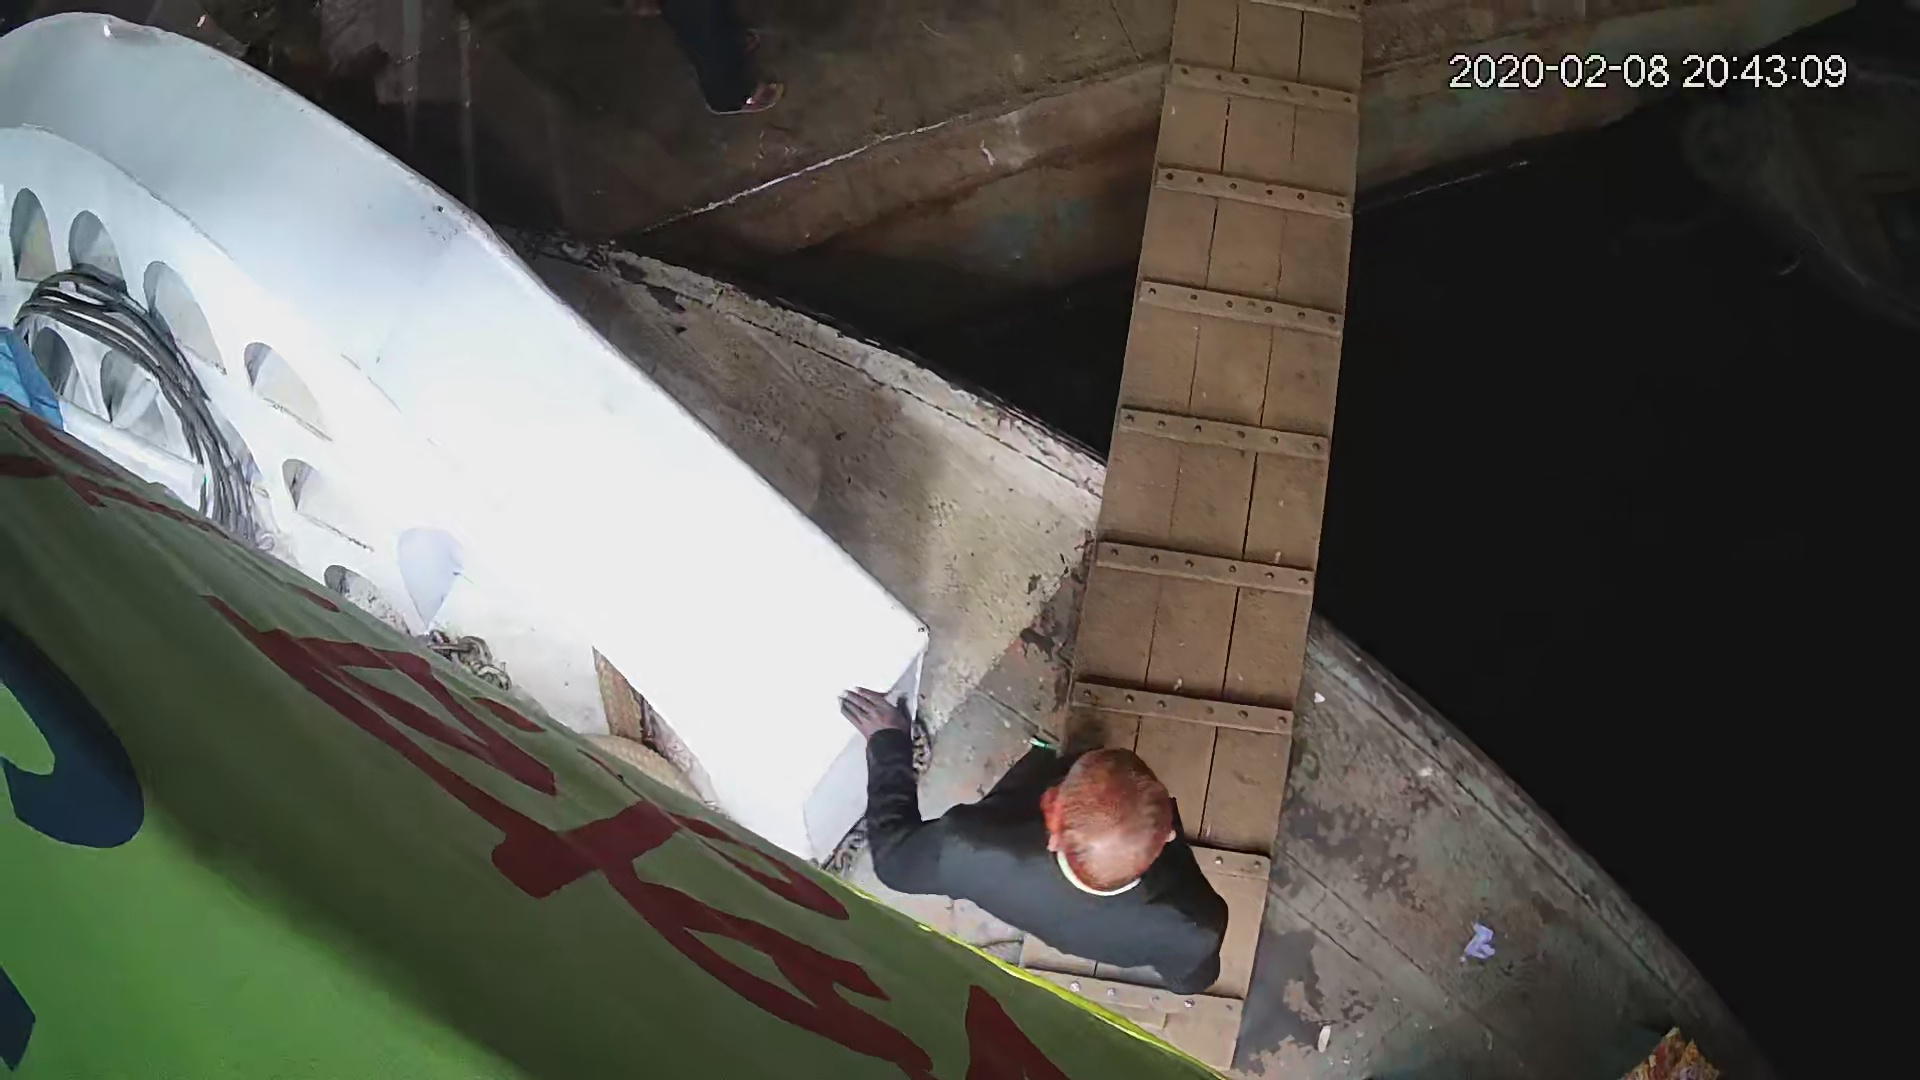person: (842, 678, 1233, 993)
